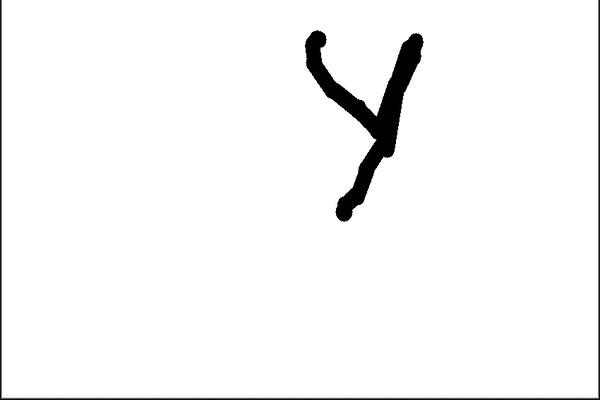Y: (294, 21, 433, 227)
